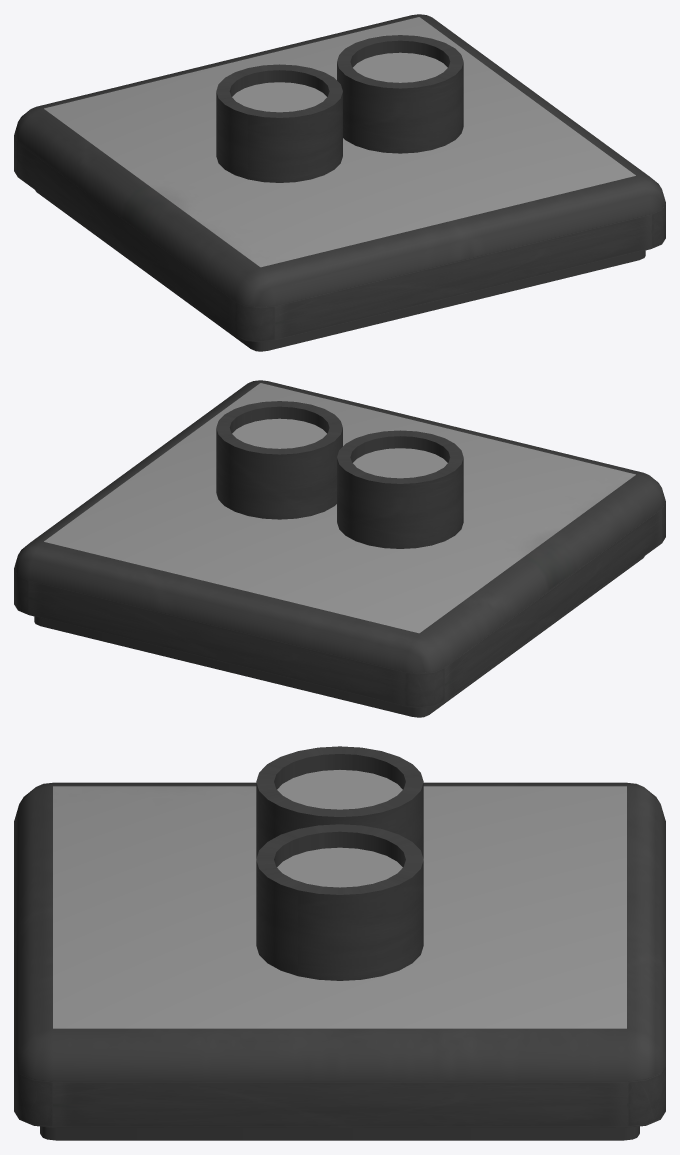
File: ControlModule.FBX
3 views of the same model, one above another, from view 1: azimuth 30°, elevation 25°; view 2: azimuth 150°, elevation 25°; view 3: azimuth 270°, elevation 25° (orthographic). The views are drawn at different scales.
Visible parts, largest first — view 1: MainBody, Camera002, Camera001; view 2: MainBody, Camera002, Camera001; view 3: MainBody, Camera001, Camera002.
Boxes of the visible parts, x1,y1,x2,y2 form: MainBody: (14,14,665,351); Camera002: (216,64,342,182); Camera001: (337,35,463,153); MainBody: (14,380,665,717); Camera002: (337,430,463,548); Camera001: (216,401,342,519); MainBody: (14,782,665,1140); Camera001: (256,824,423,980); Camera002: (256,746,423,858).
Size of the model in its own units: 0.5 by 0.1634 by 0.5.
